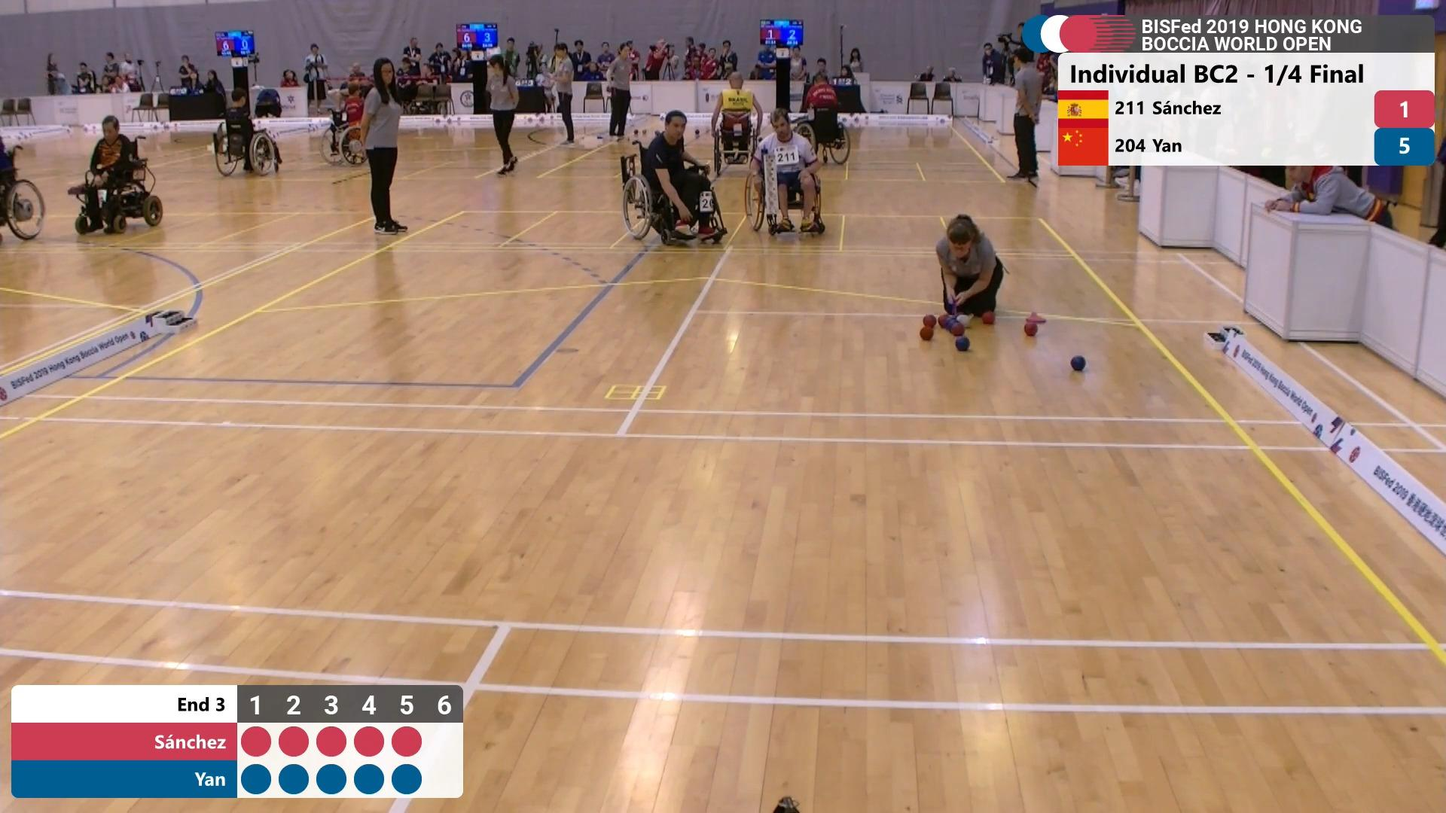blue_ball: (1071, 356, 1086, 371), (955, 337, 970, 351)
red_ball: (920, 327, 933, 340), (1025, 323, 1038, 336), (983, 311, 995, 324), (923, 316, 936, 328), (953, 324, 964, 335)
